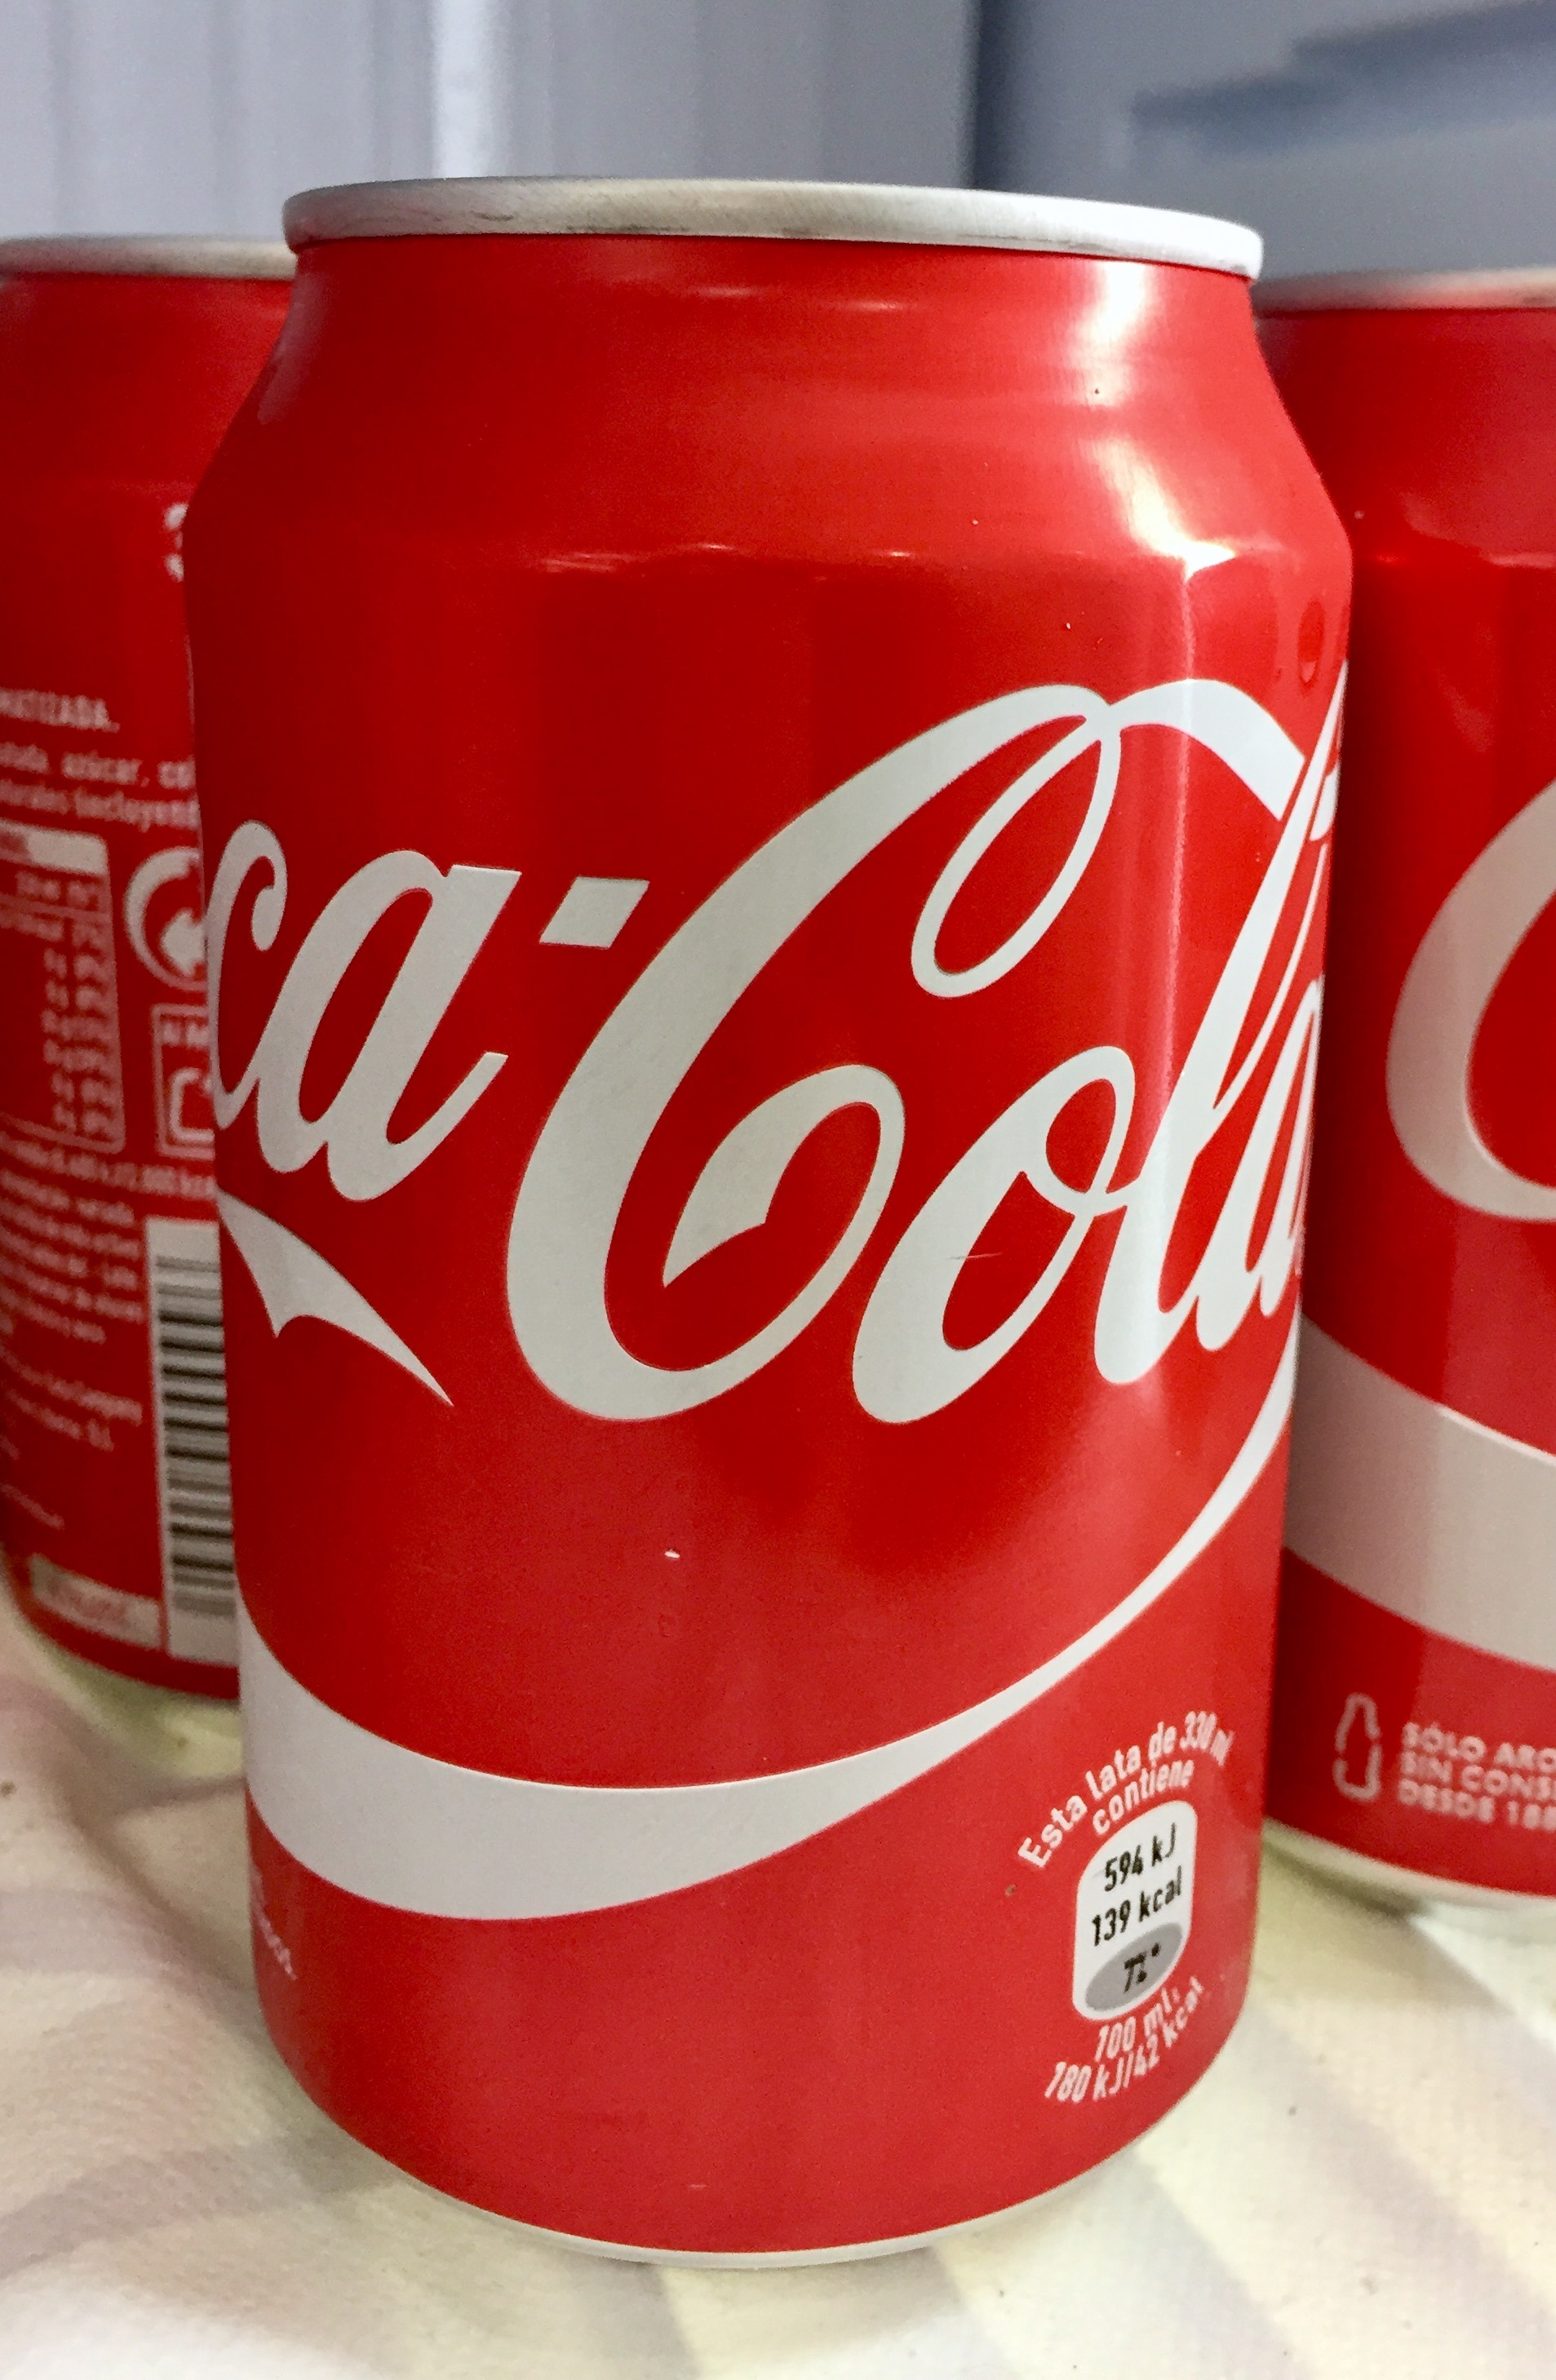metal: (175, 163, 1356, 2288)
